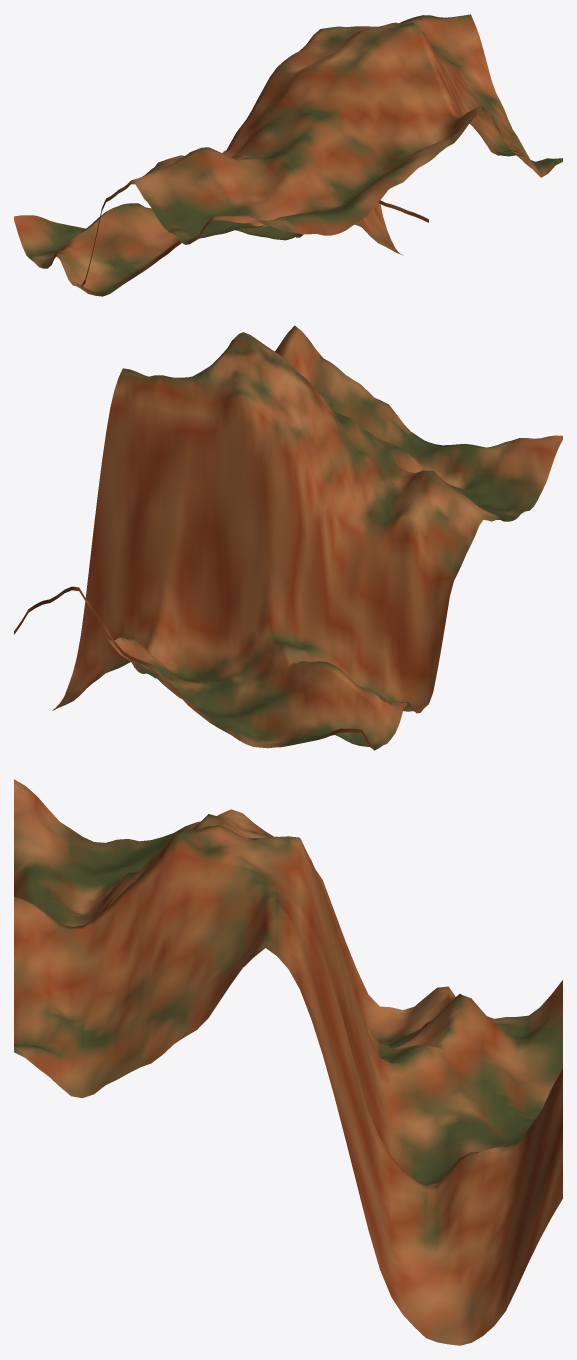
Rendered from terrain-046.glb.
The picture shows the model from 3 angles, top to bottom: view 1: azimuth 30°, elevation 25°; view 2: azimuth 150°, elevation 25°; view 3: azimuth 270°, elevation 25°; orthographic projection. The views are drawn at different scales.
Parts seen in each view (by area): view 1: terrain-046; view 2: terrain-046; view 3: terrain-046.
Boxes of the visible parts, <box> form: terrain-046: <box>14,14,562,296</box>; terrain-046: <box>14,325,562,750</box>; terrain-046: <box>14,779,562,1345</box>.
Size of the model in its own units: 384 by 347 by 384.
